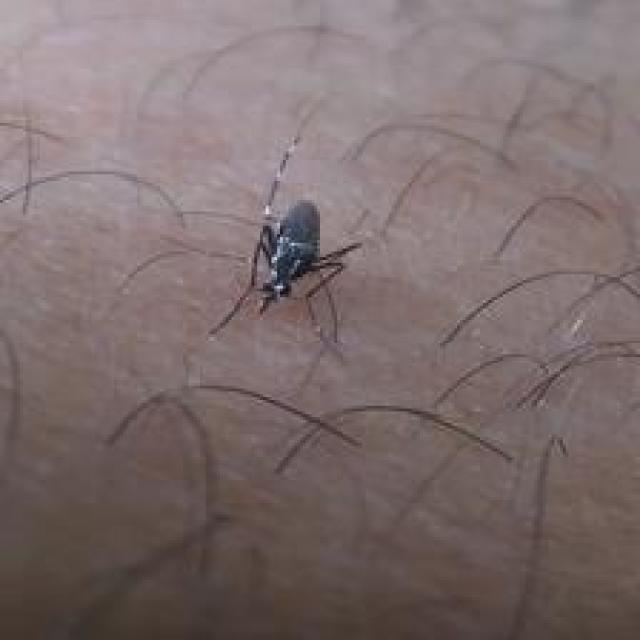Aedes albopictus: (206, 133, 363, 347)
